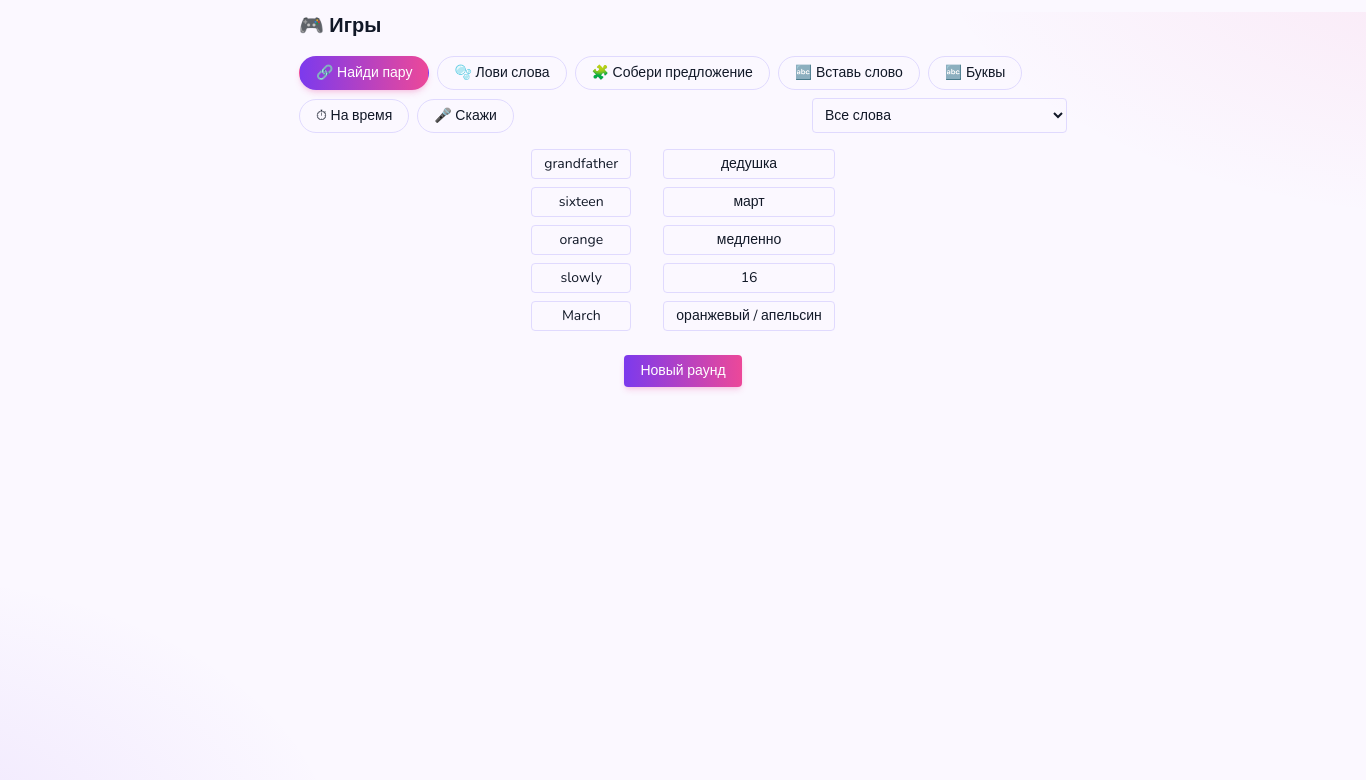
Test: GamesPage › switches to Floating Words and narrows words to a topic
Select "📅 Дни недели" in the dropdown named "Слова для игры" at {"x": 940, "y": 116}, box [812,98,1067,133]
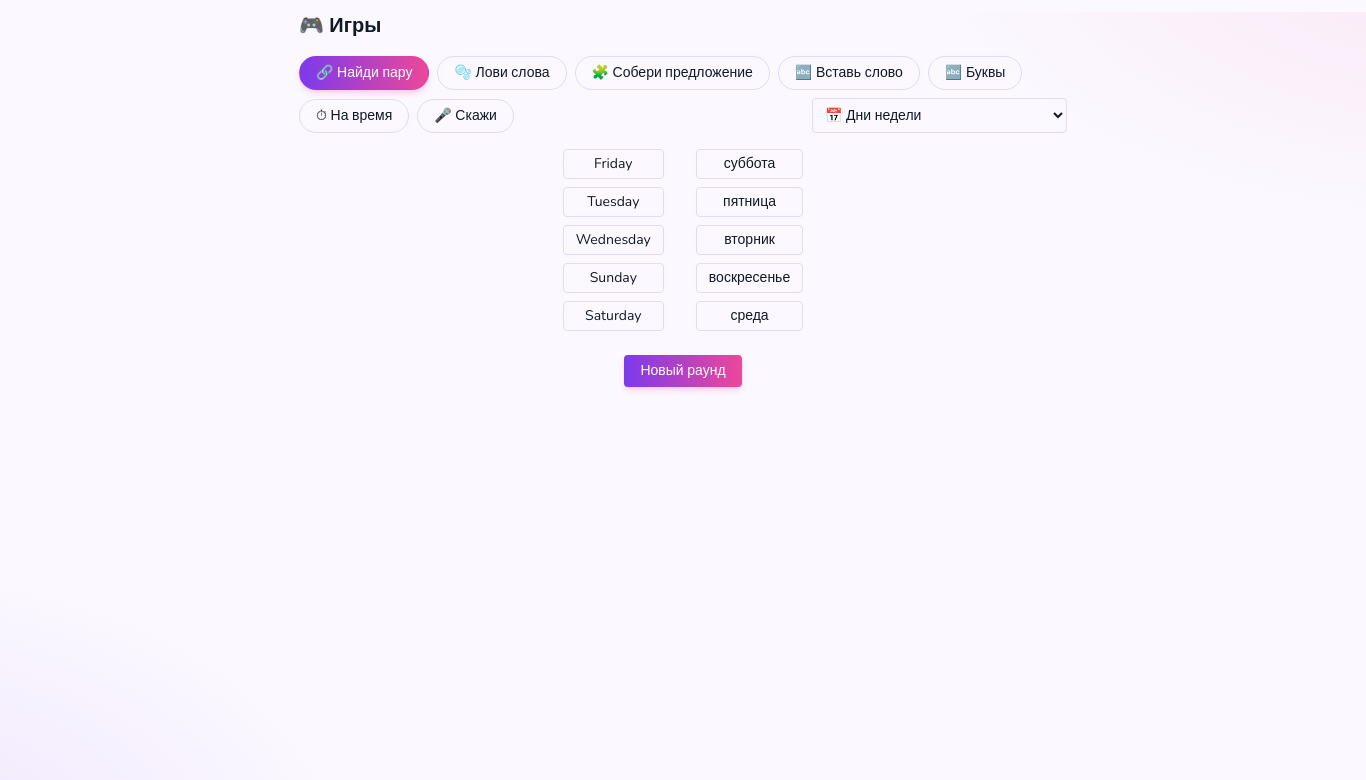
Click the button "🫧 Лови слова".
click(502, 73)  # box [437,56,566,90]
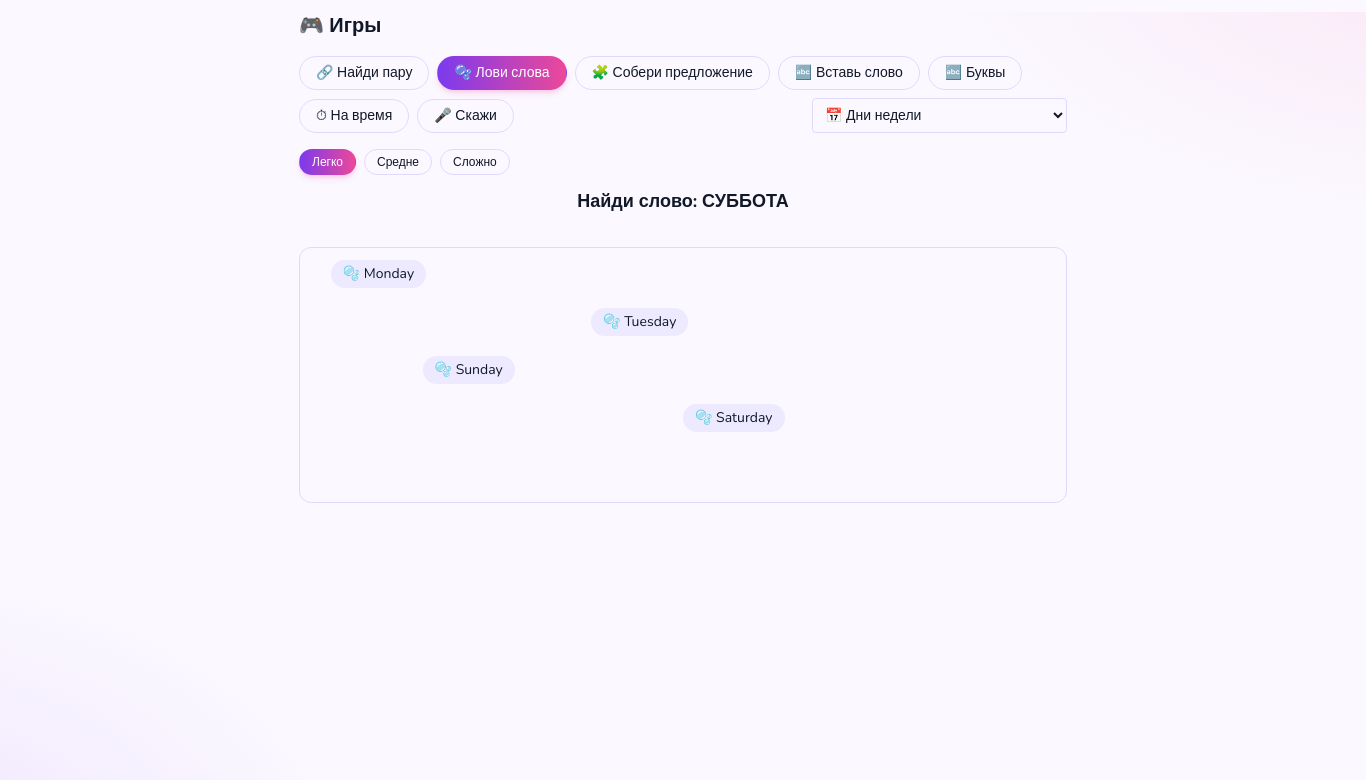
Result: the text "Найди слово: СУББОТА" is shown at [577,189,789,213]
